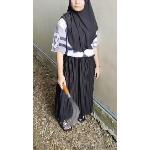Celurit: (56, 81, 80, 128)
